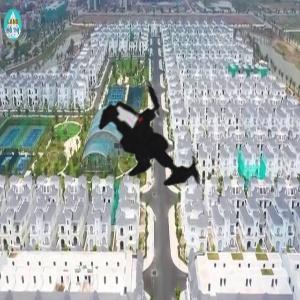drone: (68, 49, 247, 228)
